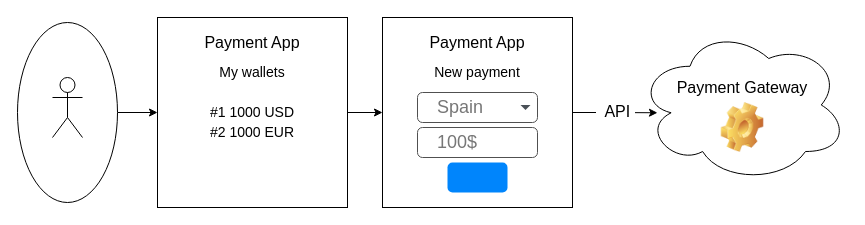
Image size: 865x225. Some labels were removed from this diagram. Each missing label, with the centre of its shape:
"Pay" belongs at pixel 477 177.
"User" belongs at pixel 67 107.
